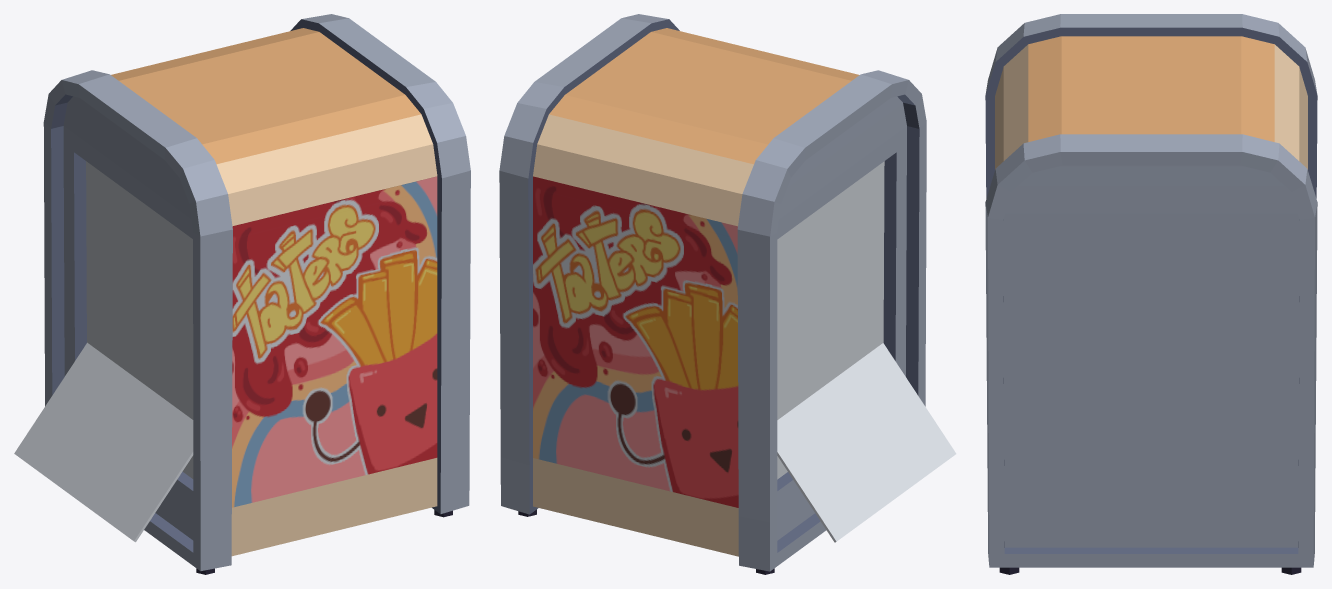
File: f_napkincontainer.fbx
3 renders of one model, left to right at view 1: azimuth 30°, elevation 25°; view 2: azimuth 150°, elevation 25°; view 3: azimuth 270°, elevation 25°, orthographic. The views are drawn at different scales.
Visible parts, largest first — view 1: f_napkincontainer; view 2: f_napkincontainer; view 3: f_napkincontainer.
Boxes of the visible parts, x1,y1,x2,y2 form: f_napkincontainer: [14, 14, 470, 574]; f_napkincontainer: [499, 14, 956, 574]; f_napkincontainer: [985, 14, 1317, 574].
Size of the model in its own units: 43.14 by 49.91 by 61.53.
